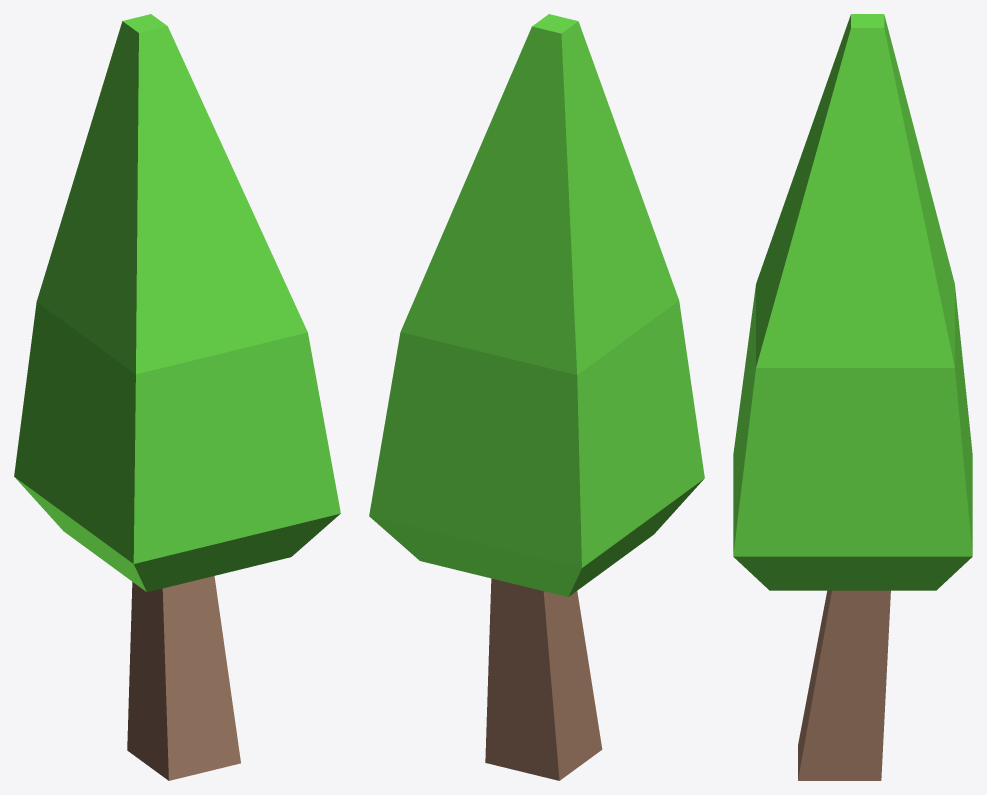
The model's file is Tree3_Model.fbx.
3 views of the same model, side by side, from view 1: azimuth 30°, elevation 25°; view 2: azimuth 150°, elevation 25°; view 3: azimuth 270°, elevation 25° (orthographic). The views are drawn at different scales.
Parts seen in each view (by area): view 1: Tree_3; view 2: Tree_3; view 3: Tree_3.
Part boxes in pixels (bbox=[...]): Tree_3: bbox=[14, 14, 340, 780]; Tree_3: bbox=[369, 14, 704, 780]; Tree_3: bbox=[733, 14, 972, 780].
Size of the model in its own units: 115 by 386 by 115.
